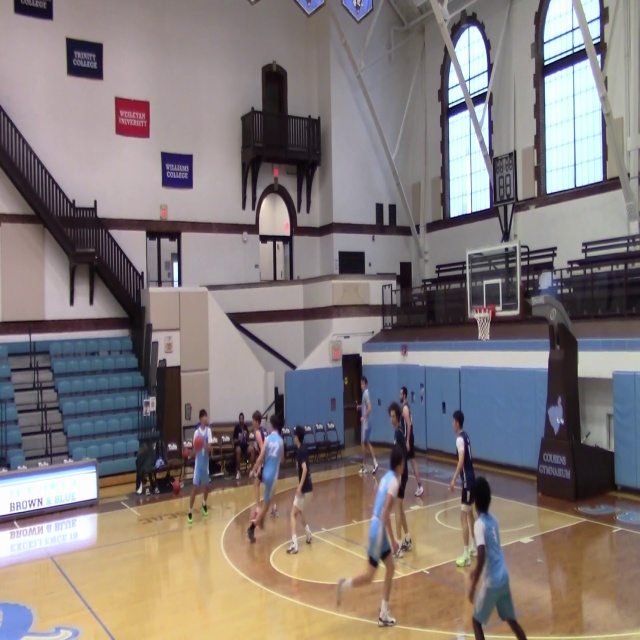Basketball: (193, 435, 204, 449), (250, 507, 260, 521), (172, 479, 181, 493), (182, 446, 191, 458)
